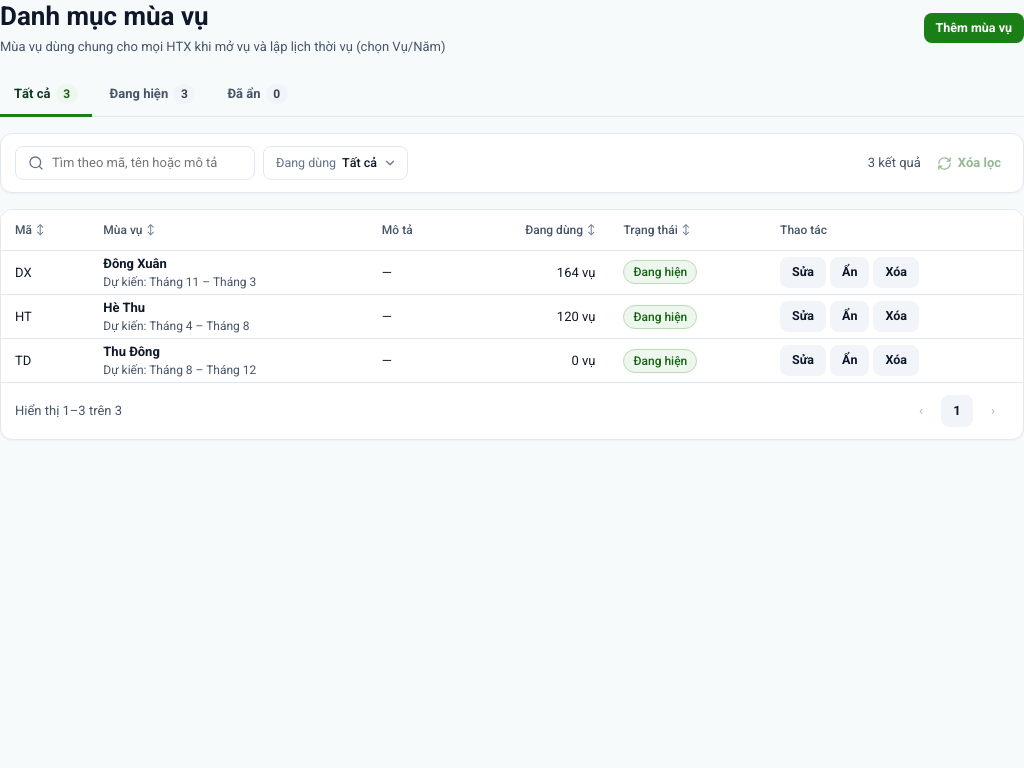
Test: Màn Danh mục mùa vụ (AH-7) › AC1: thêm mùa vụ, mục hiện ngay trong bảng và trong danh sách chọn Vụ/Năm; form không có ô mã
Click the button "Thêm mùa vụ": (974, 28) [924,13,1023,43]
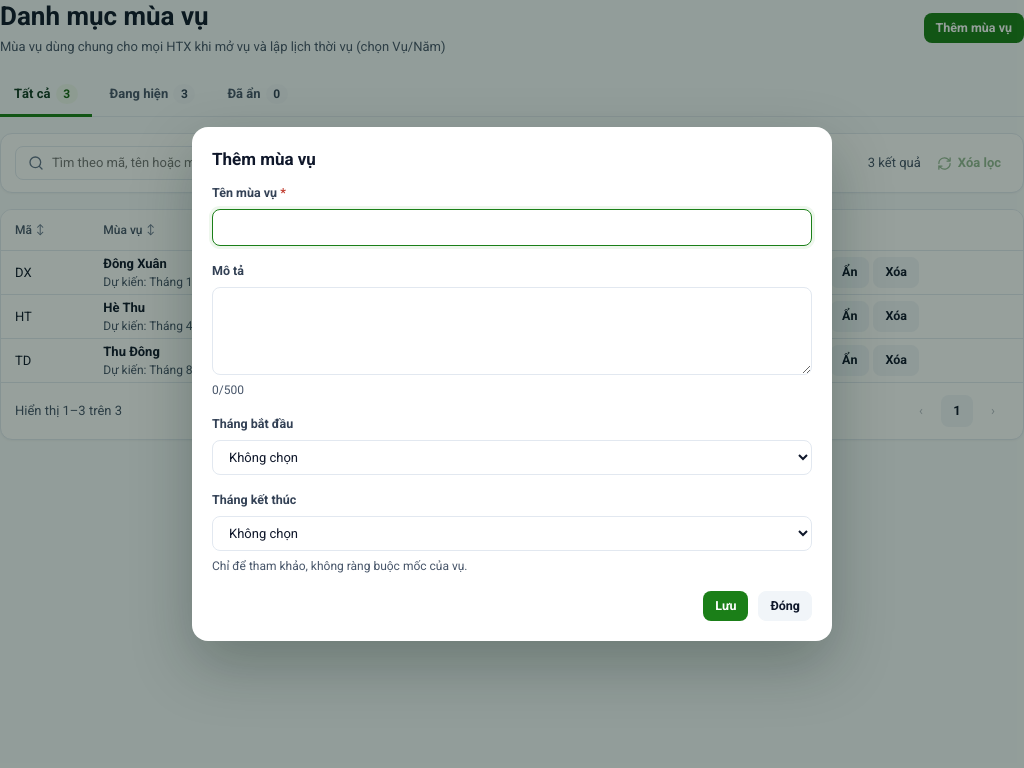
In the field labelled "Tên mùa vụ *": (512, 228) [212,209,812,246], type "Vụ thử màn hình"
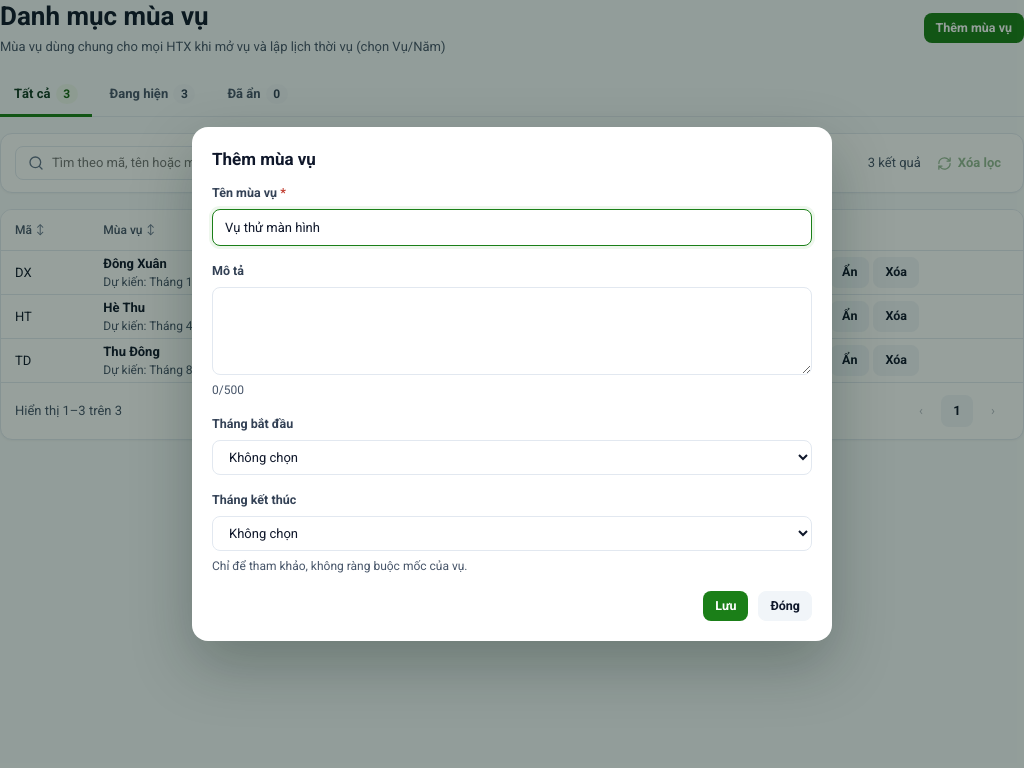
In the text box labelled "Mô tả": (512, 331) [212,287,812,375], type "Mùa vụ thử"
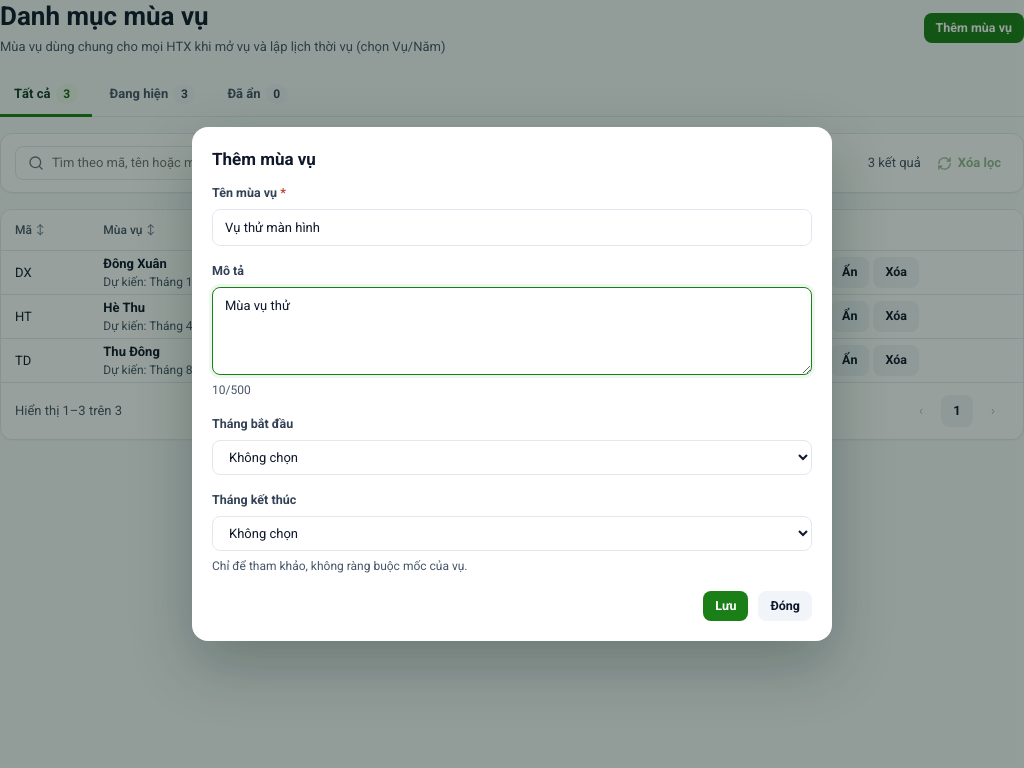
Select "Tháng 11" in the dropdown labelled "Tháng bắt đầu": (512, 457) [212,440,812,475]
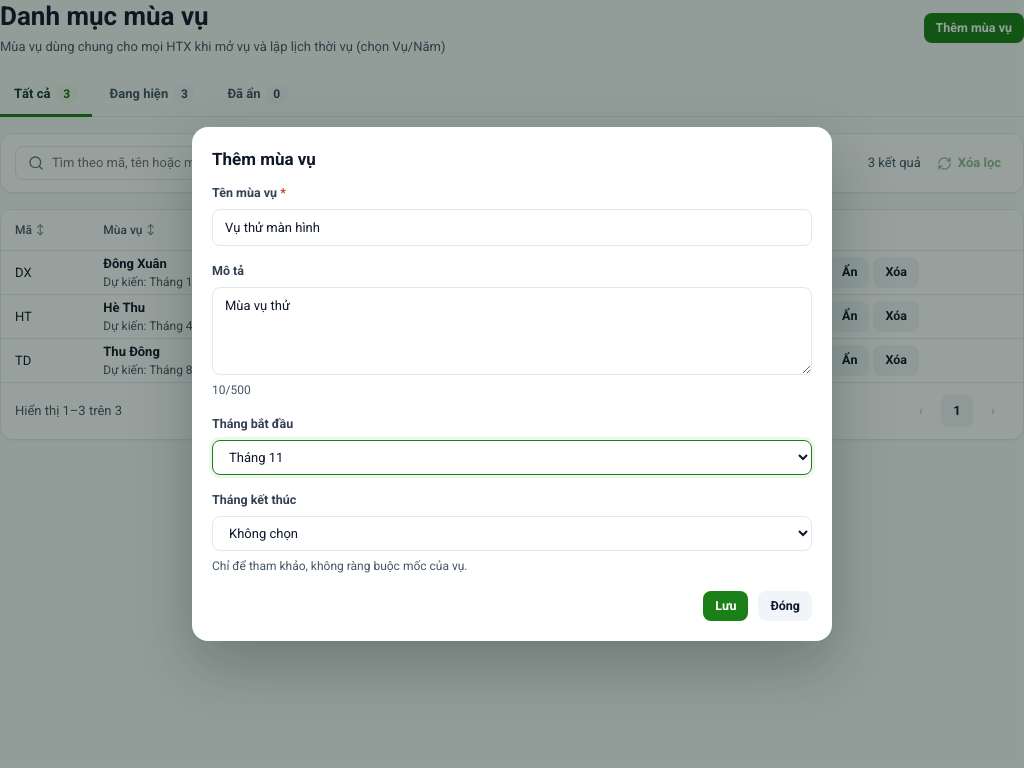
Select "Tháng 3" in the dropdown labelled "Tháng kết thúc": (512, 533) [212,516,812,551]
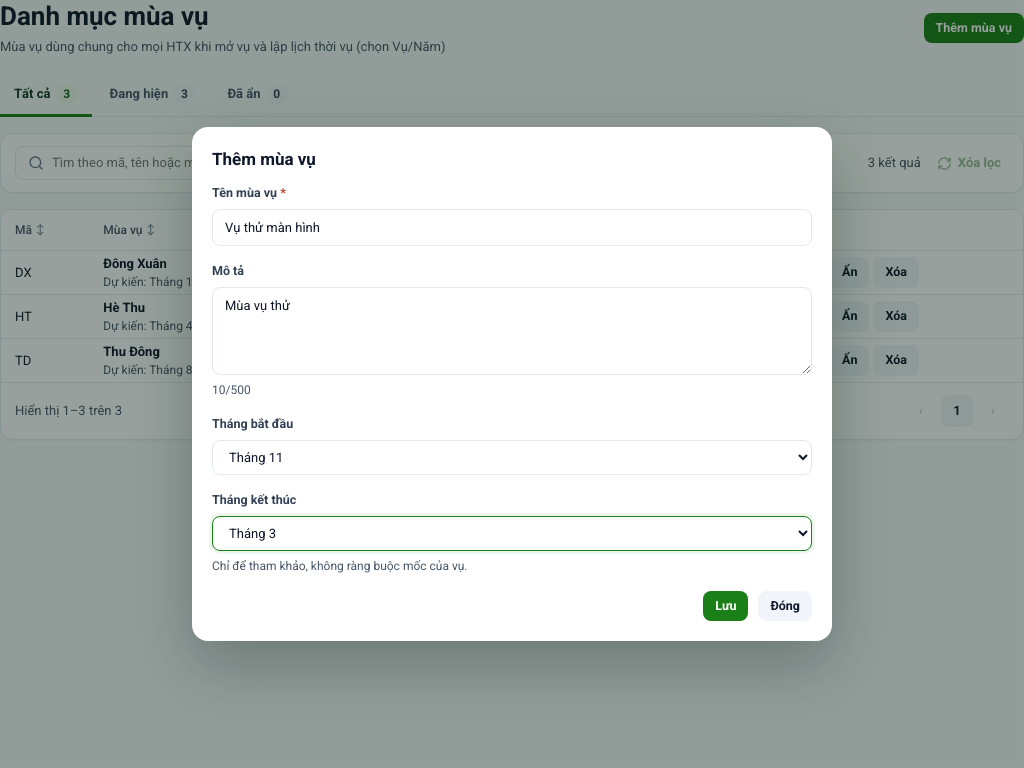
Click the button "Lưu": (726, 606) [703,591,748,621]
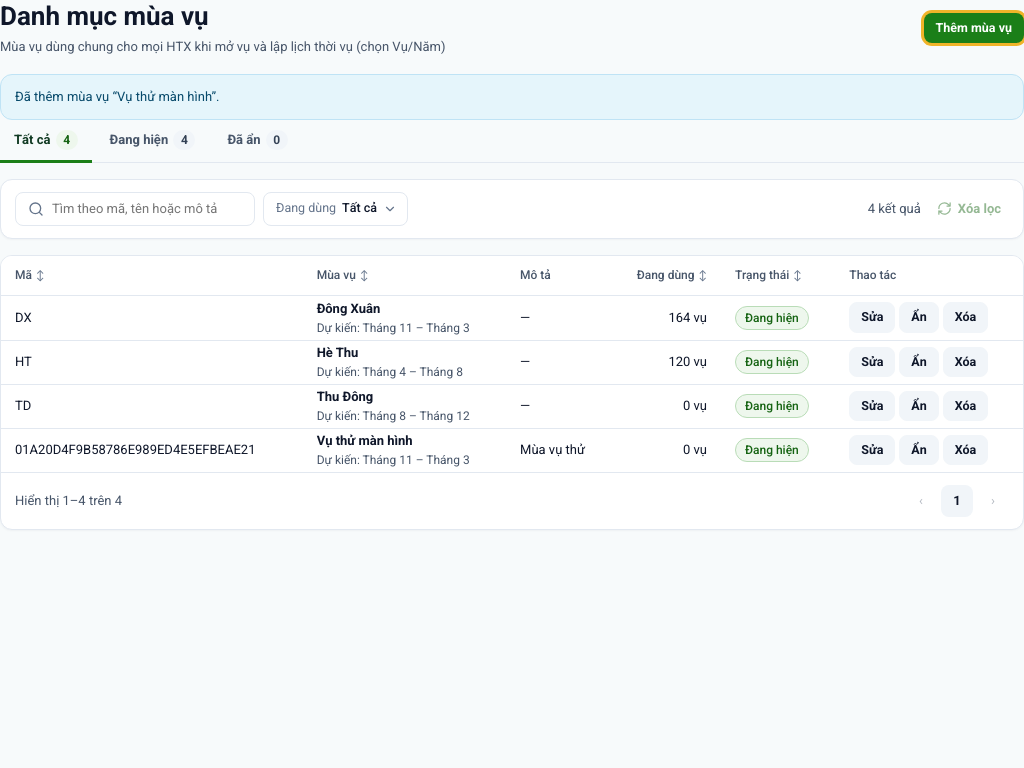
Expected: the button "Vụ thử màn hình" is shown, [317,431,413,451]
Expected: the dialog is gone
Expected: the message shows "Đã thêm mùa vụ", [15,89,220,104]
